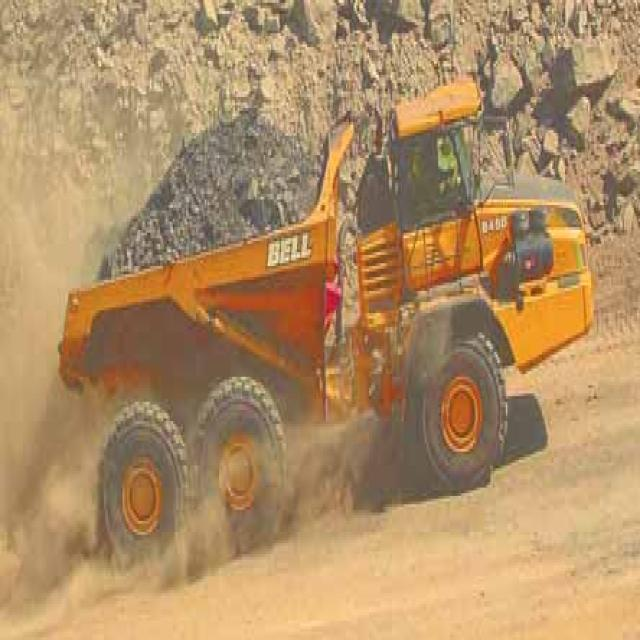dump_truck: (60, 58, 594, 568)
